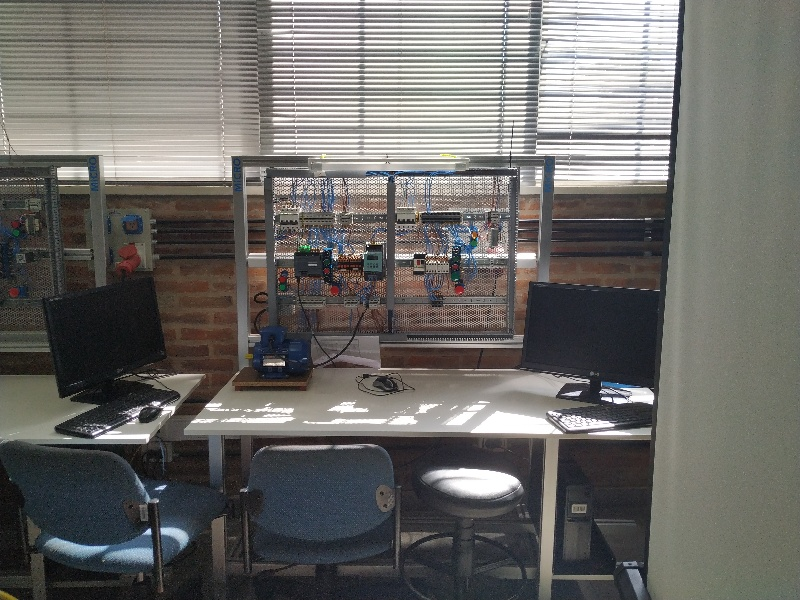Tablero 2: (263, 173, 518, 334)
